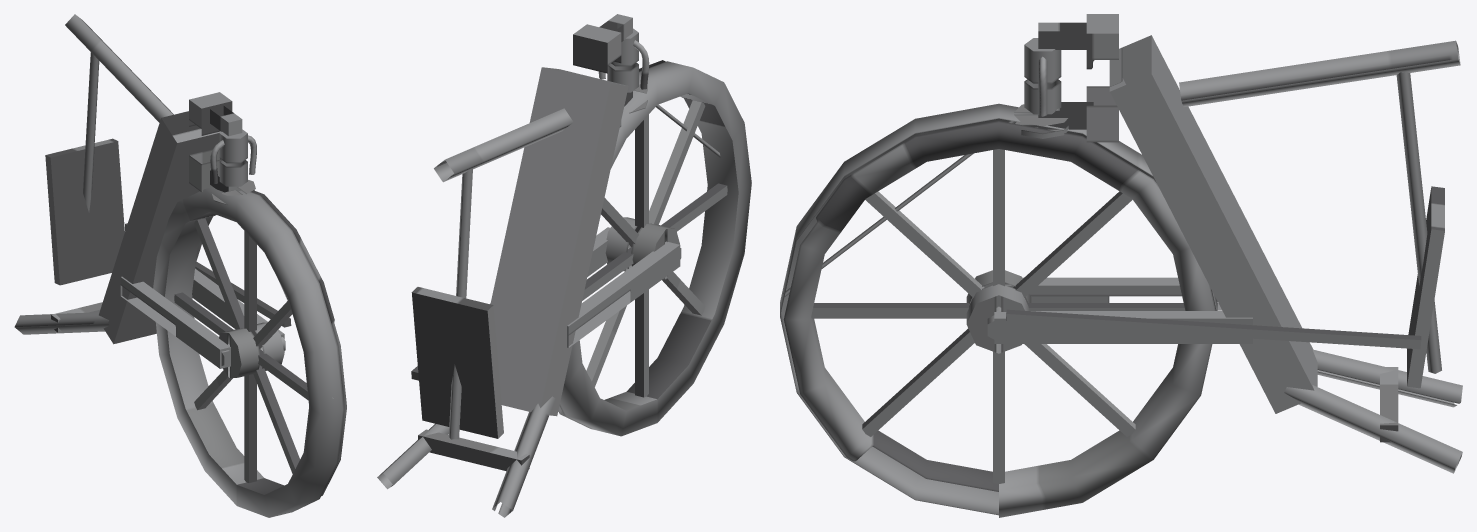
3 renders of one model, left to right at view 1: azimuth 30°, elevation 25°; view 2: azimuth 150°, elevation 25°; view 3: azimuth 270°, elevation 25°, orthographic. The views are drawn at different scales.
Bounding box in the file's own units: 0.3946 × 1.16 × 1.48.
